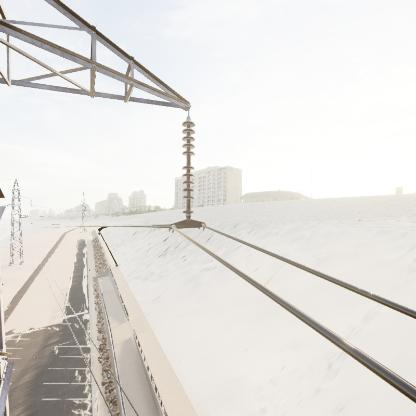insulator: (178, 118, 197, 220)
tower: (0, 178, 36, 270)
